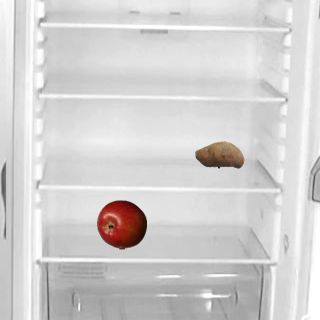Apple Braeburn: (96, 199, 146, 249)
Potato Sweet: (194, 129, 244, 179)
